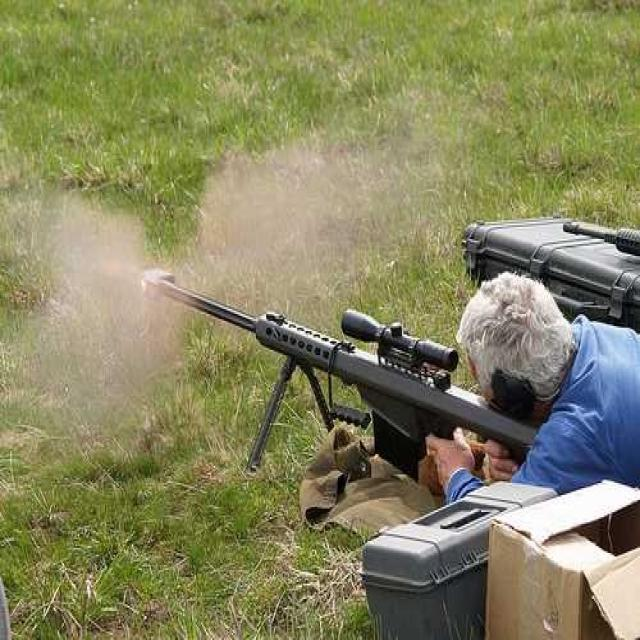heavyweapon: (105, 231, 582, 559)
